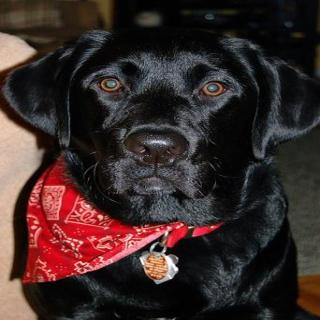dog: (0, 26, 320, 234)
nose: (124, 125, 192, 173)
